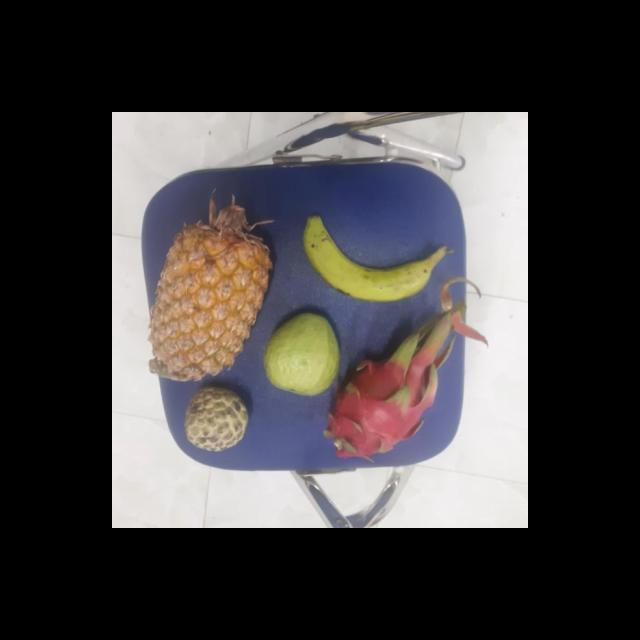Sakya fruit: (184, 388, 252, 452)
banana: (300, 221, 452, 301)
guava: (264, 313, 344, 396)
pineapple: (151, 220, 273, 382)
pitaya: (327, 355, 435, 459)
